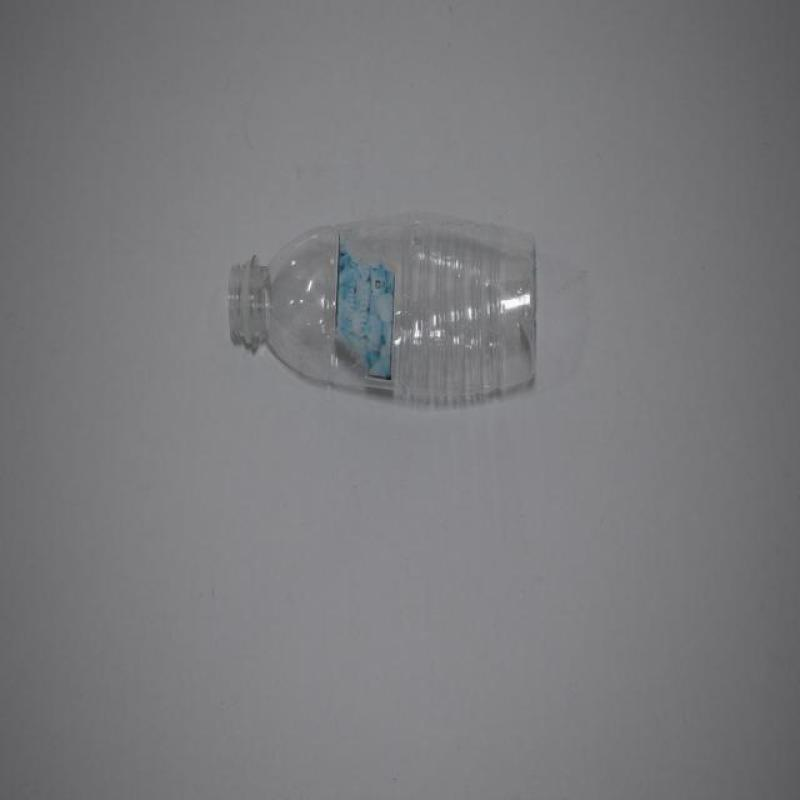botella: (227, 214, 548, 416)
